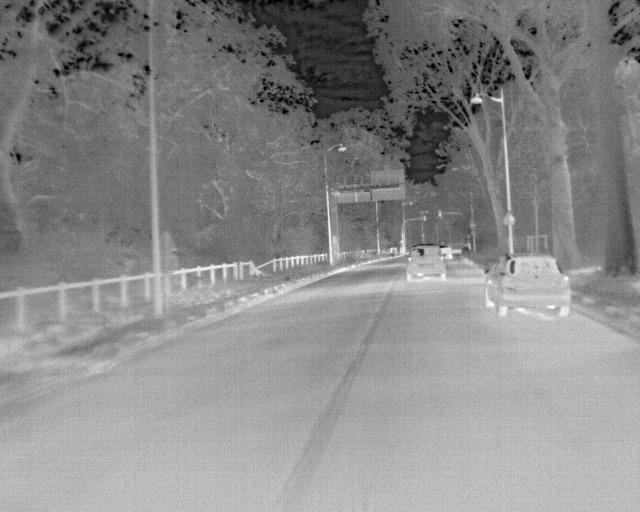car: (484, 253, 572, 317), (406, 244, 447, 282), (439, 245, 453, 259)
light: (439, 210, 441, 216), (424, 216, 426, 221)
sign: (371, 169, 405, 185), (371, 188, 406, 201), (159, 231, 176, 253), (160, 255, 178, 274), (338, 192, 370, 202), (503, 210, 515, 224), (470, 223, 476, 228)
